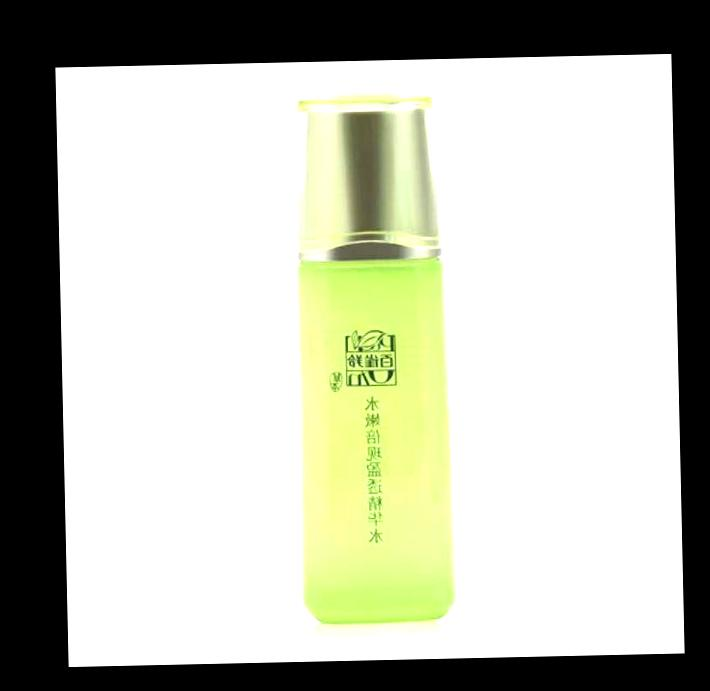cosmetic: (288, 91, 450, 611)
